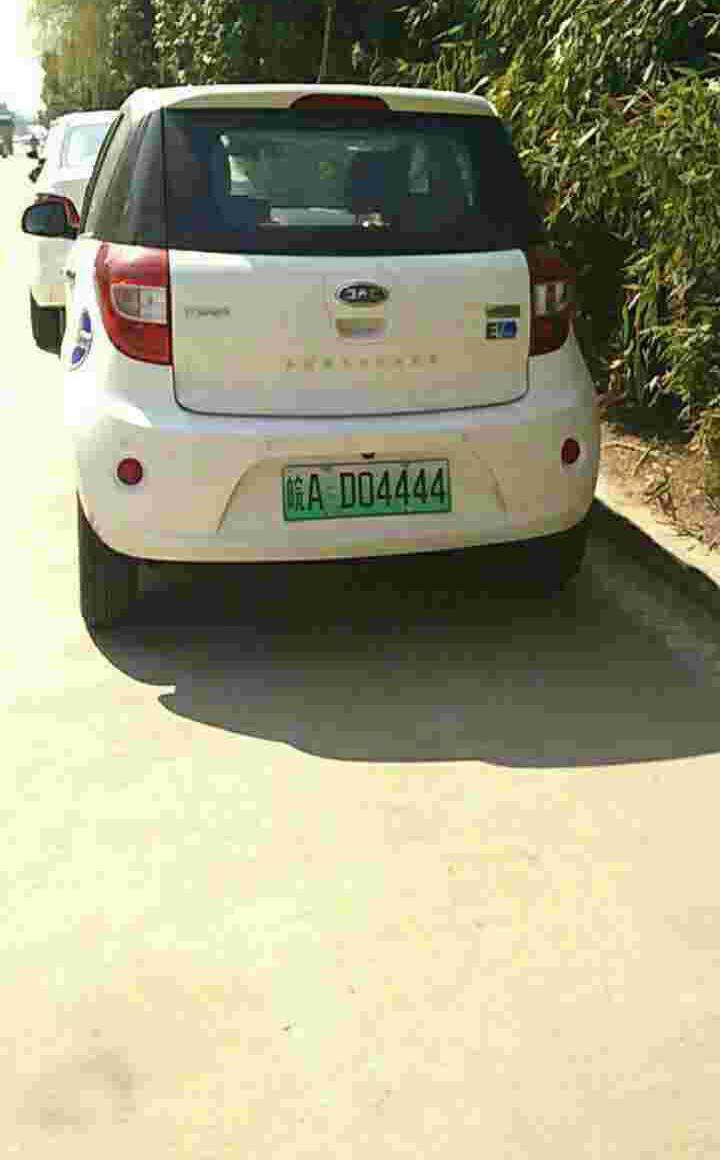car_id: (280, 456, 451, 518)
